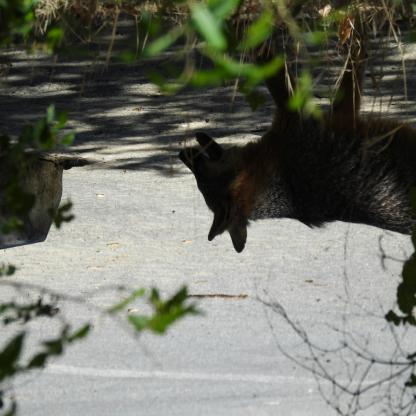zorro: (170, 20, 416, 258)
